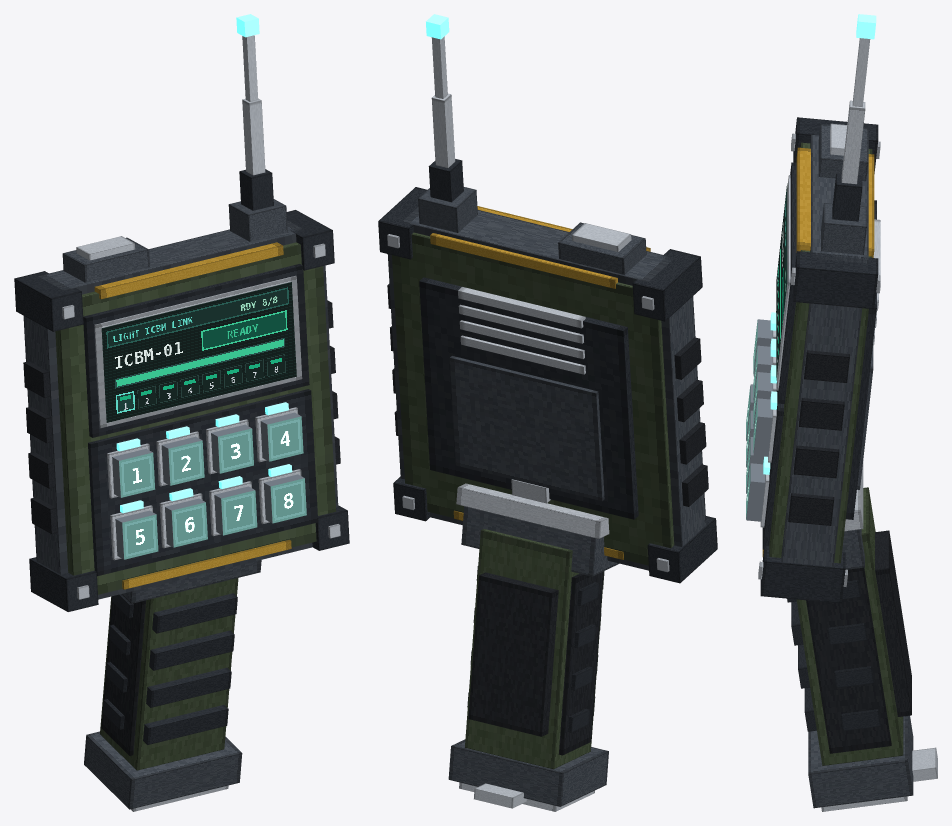
Rendered from light_icbm_launch_remote.glb.
The picture shows the model from 3 angles, left to right: view 1: azimuth 30°, elevation 25°; view 2: azimuth 150°, elevation 25°; view 3: azimuth 270°, elevation 25°; orthographic projection. The views are drawn at different scales.
Parts seen in each view (by area): view 1: Light_ICBM_Launch_Remote_MK8; view 2: Light_ICBM_Launch_Remote_MK8; view 3: Light_ICBM_Launch_Remote_MK8.
Boxes of the visible parts, left/top/right/bottom form: Light_ICBM_Launch_Remote_MK8: left=14, top=14, right=349, bottom=811; Light_ICBM_Launch_Remote_MK8: left=378, top=14, right=717, bottom=811; Light_ICBM_Launch_Remote_MK8: left=746, top=14, right=937, bottom=811.
Size of the model in its own units: 1.52 by 3.75 by 0.7996.
Materials: 10 (8 with a texture image).
